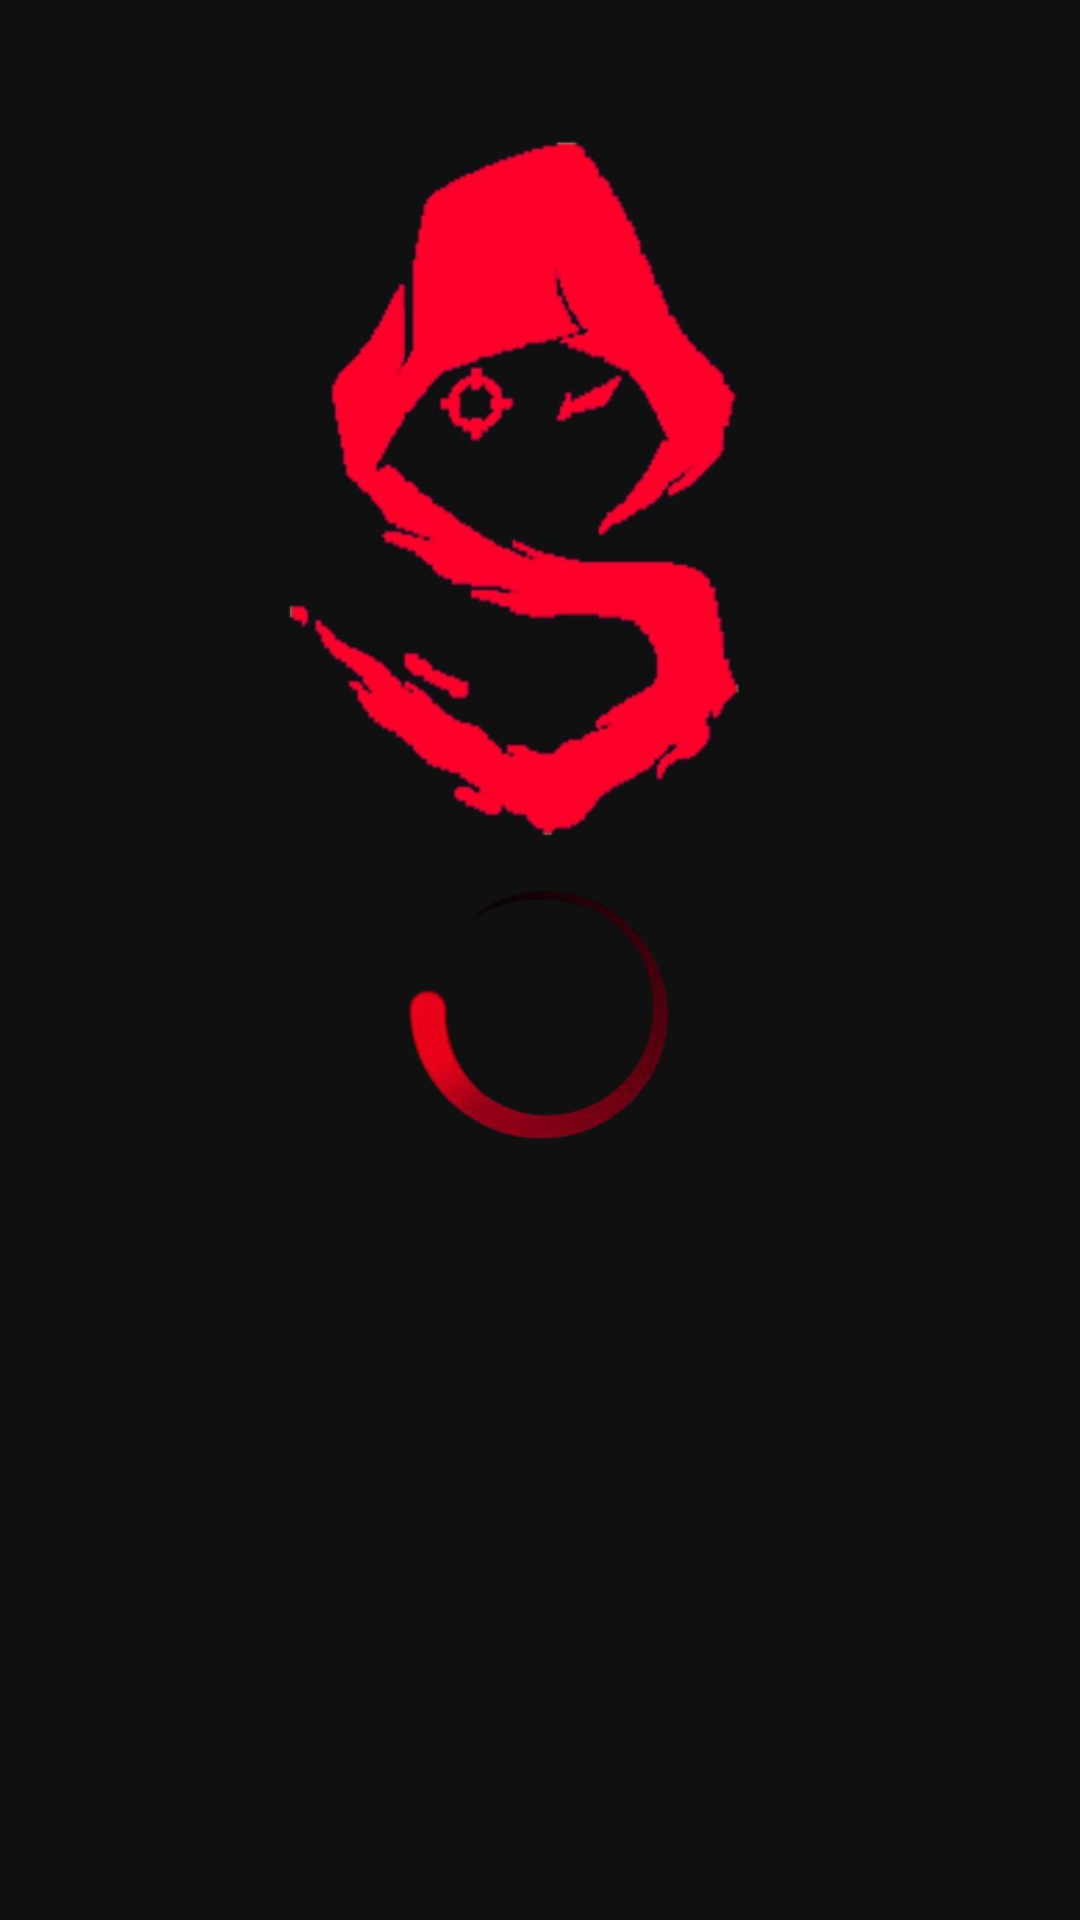

Icons on this 1080x1920 Android screen, each with the point to tap as (x=x, y=y):
loader: (x=538, y=1019)
